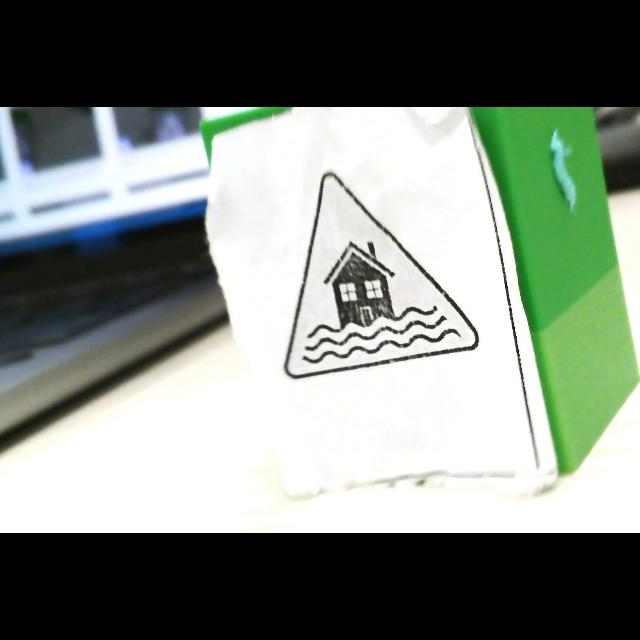Tsunami: (285, 172, 478, 379)
